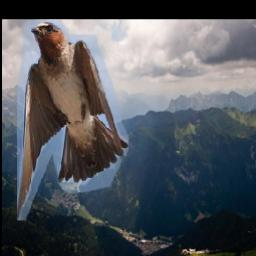Swallow: (16, 20, 127, 220)
